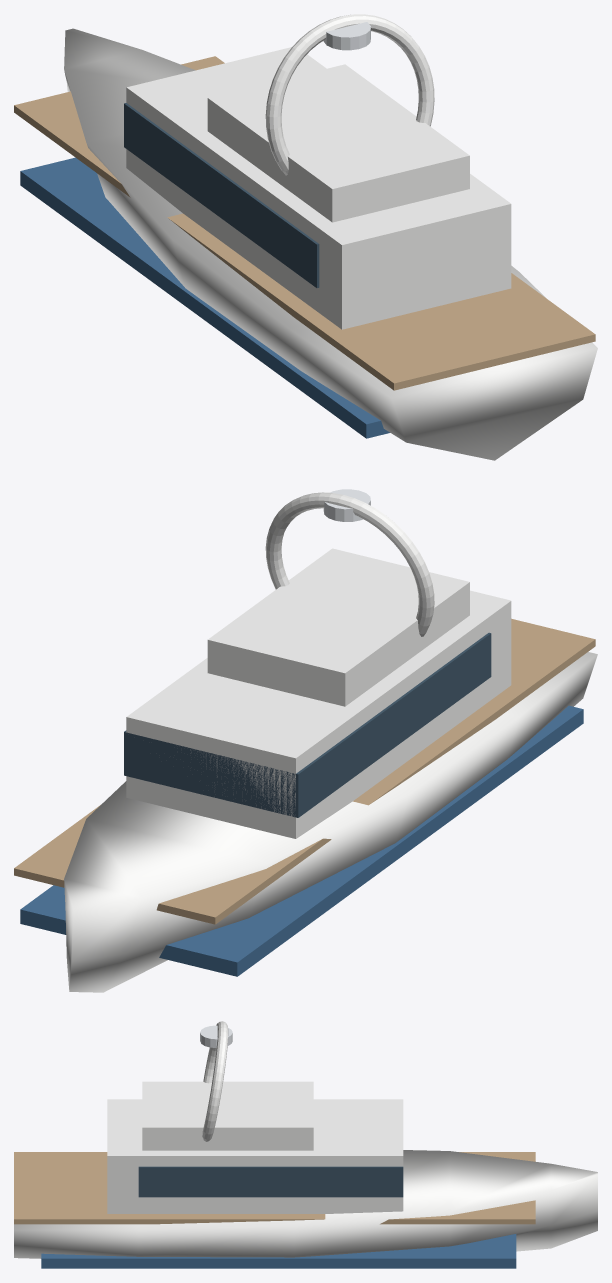
File: Boat_LuxuryYacht.fbx
3 renders of one model, top to bottom at view 1: azimuth 30°, elevation 25°; view 2: azimuth 150°, elevation 25°; view 3: azimuth 270°, elevation 25°, orthographic. The views are drawn at different scales.
Parts seen in each view (by area): view 1: Yacht_Hull, Cube.002, Cube.004, Cube, Cube.001, Cube.003, Torus, Cylinder; view 2: Yacht_Hull, Cube.002, Cube.004, Cube.003, Cube.001, Cube, Torus, Cylinder; view 3: Yacht_Hull, Cube.002, Cube.004, Cube, Cube.003, Cube.001, Torus, Cylinder.
Boxes of the visible parts, x1,y1,x2,y2 form: Yacht_Hull: (64,28,597,460); Cube.002: (126,47,511,329); Cube.004: (207,64,469,222); Cube: (14,56,595,390); Cube.001: (20,157,389,438); Cube.003: (124,103,319,287); Torus: (265,14,434,175); Cylinder: (323,22,370,50); Yacht_Hull: (64,652,597,992); Cube.002: (126,590,511,838); Cube.004: (207,548,469,706); Cube.003: (124,632,491,817); Cube.001: (20,705,583,976); Cube: (14,618,595,924); Torus: (265,492,434,636); Cylinder: (323,489,370,521); Yacht_Hull: (14,1150,597,1258); Cube.002: (107,1099,403,1213); Cube.004: (142,1081,313,1150); Cube: (14,1152,535,1224); Cube.003: (138,1166,403,1197); Cube.001: (41,1234,516,1268); Torus: (202,1021,228,1141); Cylinder: (200,1025,232,1047).
Size of the model in its own units: 4.8 by 6.61 by 15.
